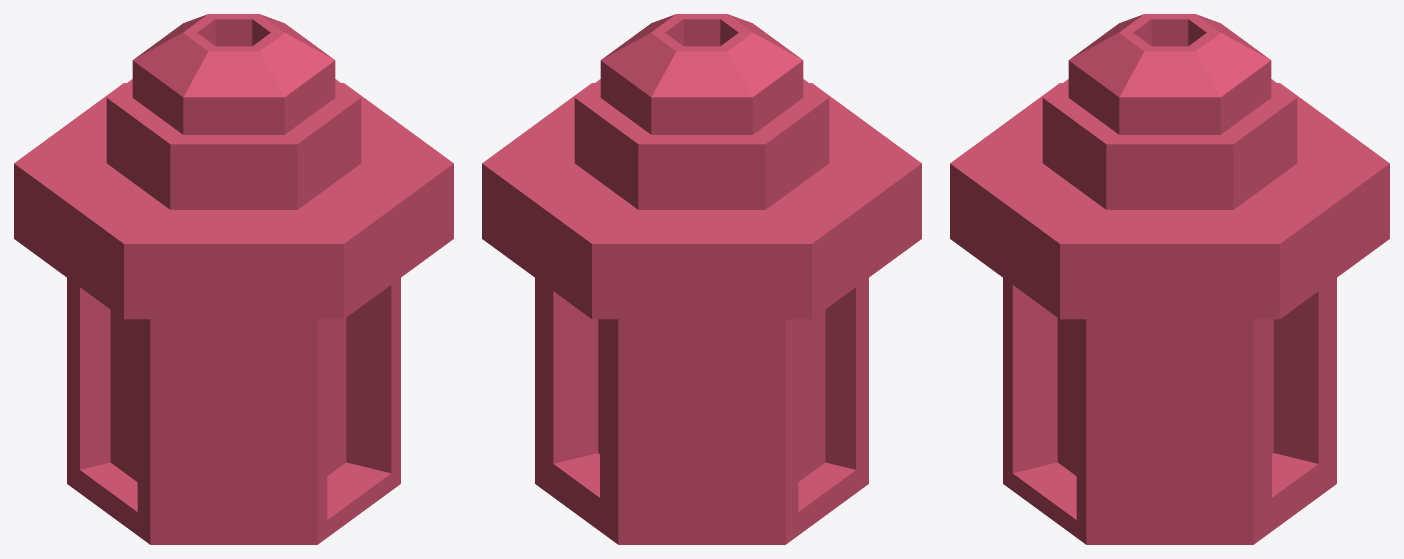
File: enemy1.gltf
The picture shows the model from 3 angles, left to right: view 1: azimuth 30°, elevation 25°; view 2: azimuth 150°, elevation 25°; view 3: azimuth 270°, elevation 25°; orthographic projection.
Visible parts, largest first — view 1: latern, lamp; view 2: latern, lamp; view 3: latern, lamp.
Boxes of the visible parts, bbox=[...] form: latern: bbox=[14, 14, 453, 544]; lamp: bbox=[110, 310, 346, 481]; latern: bbox=[482, 14, 921, 544]; lamp: bbox=[598, 310, 825, 481]; latern: bbox=[950, 14, 1389, 544]; lamp: bbox=[1057, 318, 1273, 475].
Size of the model in its own units: 1.73 by 2.26 by 2.
